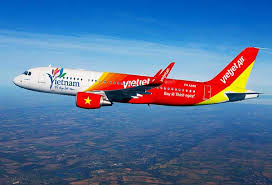maybay_dansu: (6, 46, 263, 127)
